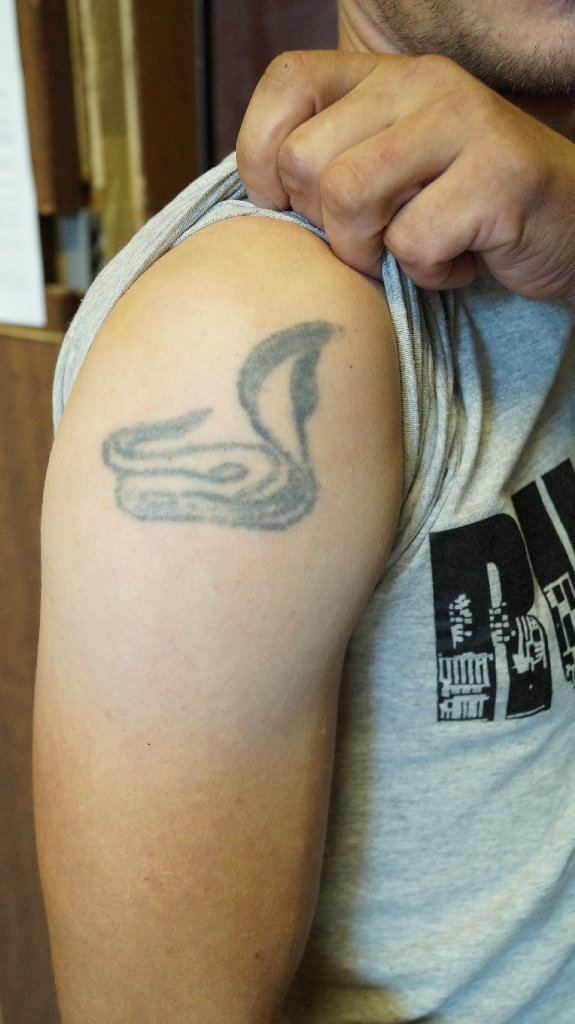tatu7_zmeya: (117, 296, 376, 538)
